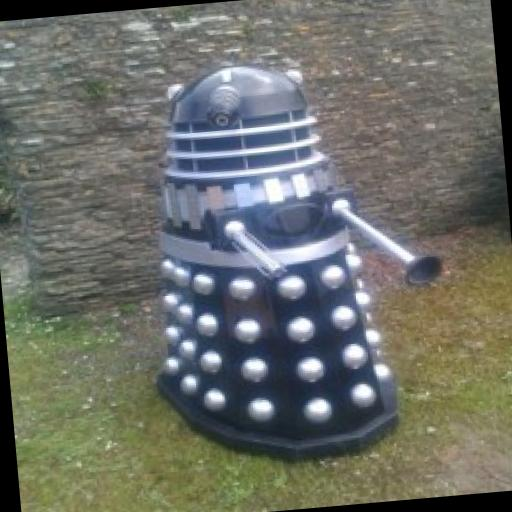dalek: (129, 50, 458, 471)
